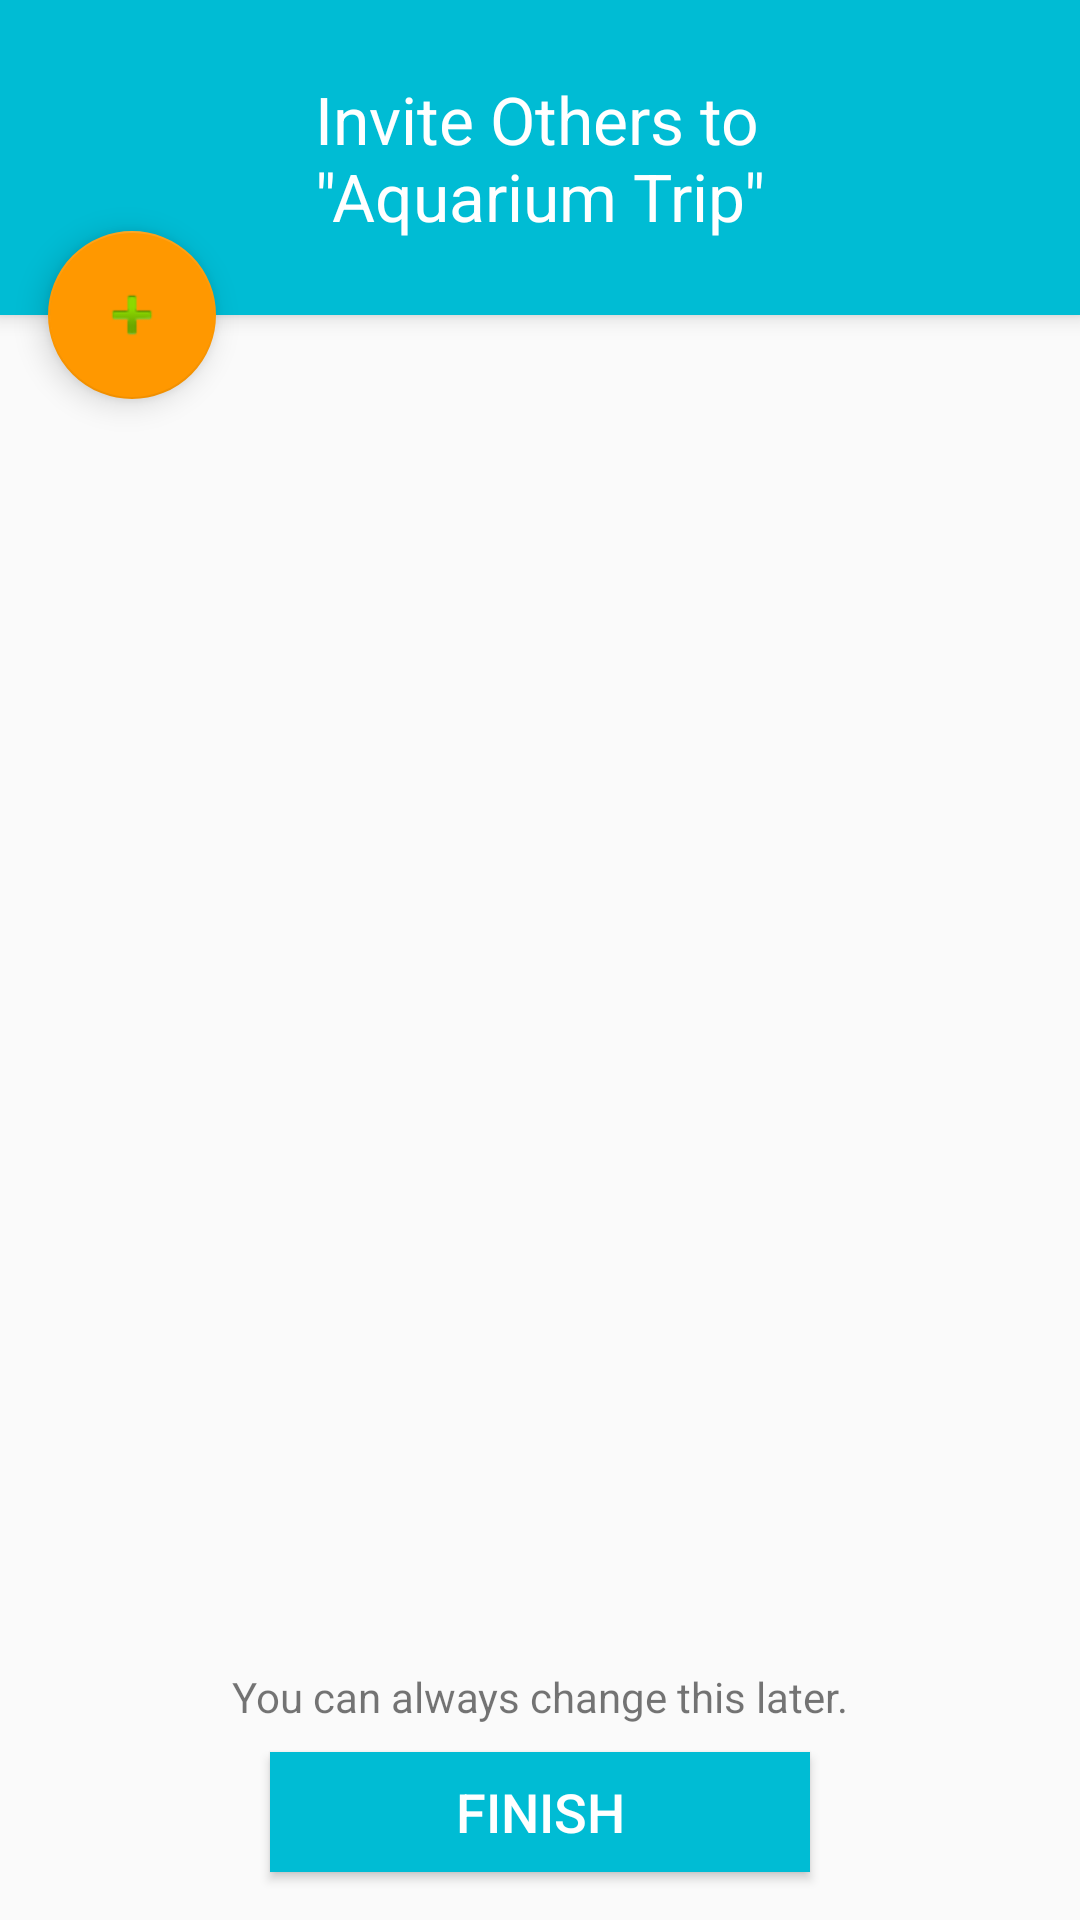

Where to tap for icons on this 1080*1920 app screen, as (x=x, y=y):
add: (x=132, y=315)
